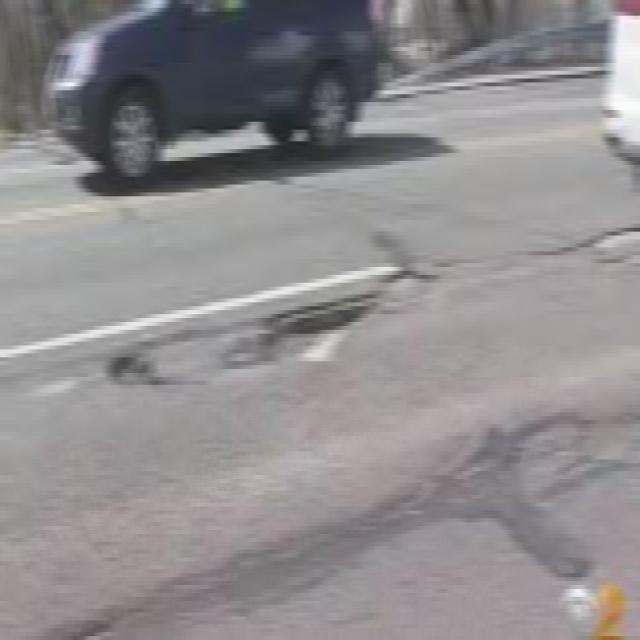Pothole: (203, 259, 454, 380), (92, 339, 174, 388), (564, 221, 640, 251)
